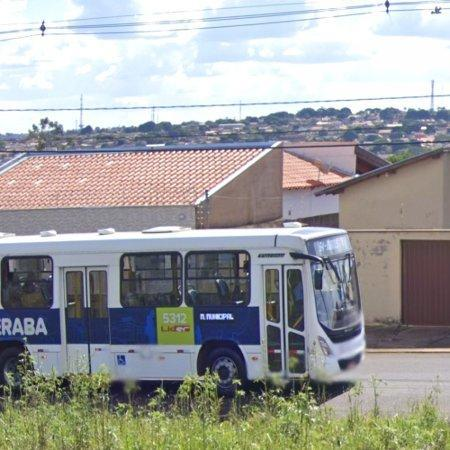buses: (0, 226, 366, 382)
